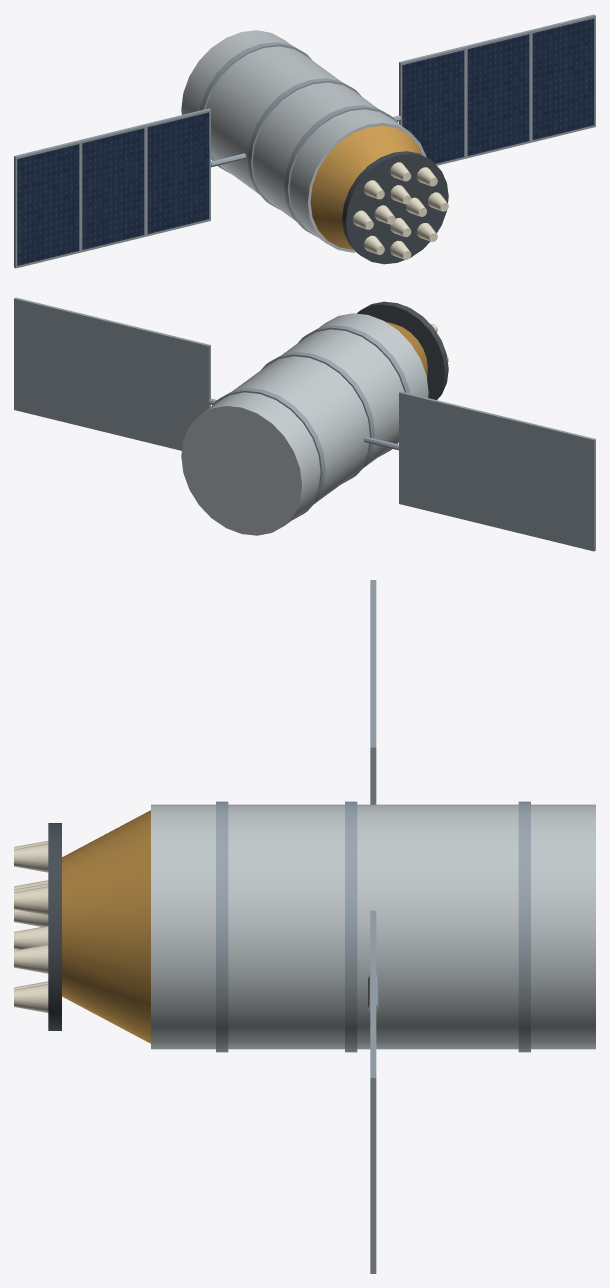
Rendered from glonass.glb.
The picture shows the model from 3 angles, top to bottom: view 1: azimuth 30°, elevation 25°; view 2: azimuth 150°, elevation 25°; view 3: azimuth 270°, elevation 25°; orthographic projection. The views are drawn at different scales.
Visible parts, largest first — view 1: Photovoltaic laminates (×6), Pressurized service module, Navigation antenna base, Array frame (×6), Navigation deck support, Equipment belt (×3); view 2: Array frame (×6), Pressurized service module, Equipment belt (×3), Navigation antenna base, Navigation deck support; view 3: Pressurized service module, Navigation deck support, Equipment belt (×3), Navigation antenna base, Array frame.
Boxes of the visible parts, x1,y1,x2,y2 form: Photovoltaic laminates (×6): (17, 18, 594, 265); Pressurized service module: (181, 30, 426, 252); Navigation antenna base: (342, 151, 448, 264); Array frame (×6): (14, 14, 595, 268); Navigation deck support: (310, 125, 422, 249); Equipment belt (×3): (200, 42, 397, 236); Array frame (×6): (14, 297, 595, 551); Pressurized service module: (181, 313, 428, 535); Equipment belt (×3): (212, 325, 409, 519); Navigation antenna base: (357, 301, 448, 399); Navigation deck support: (386, 322, 427, 377); Pressurized service module: (151, 804, 595, 1049); Navigation deck support: (62, 810, 150, 1043); Equipment belt (×3): (216, 801, 530, 1052); Navigation antenna base: (48, 823, 61, 1030); Array frame: (370, 1022, 376, 1273).
Size of the model in its own units: 7.2 by 1.54 by 3.56.
Materials: 6 (1 with a texture image).
